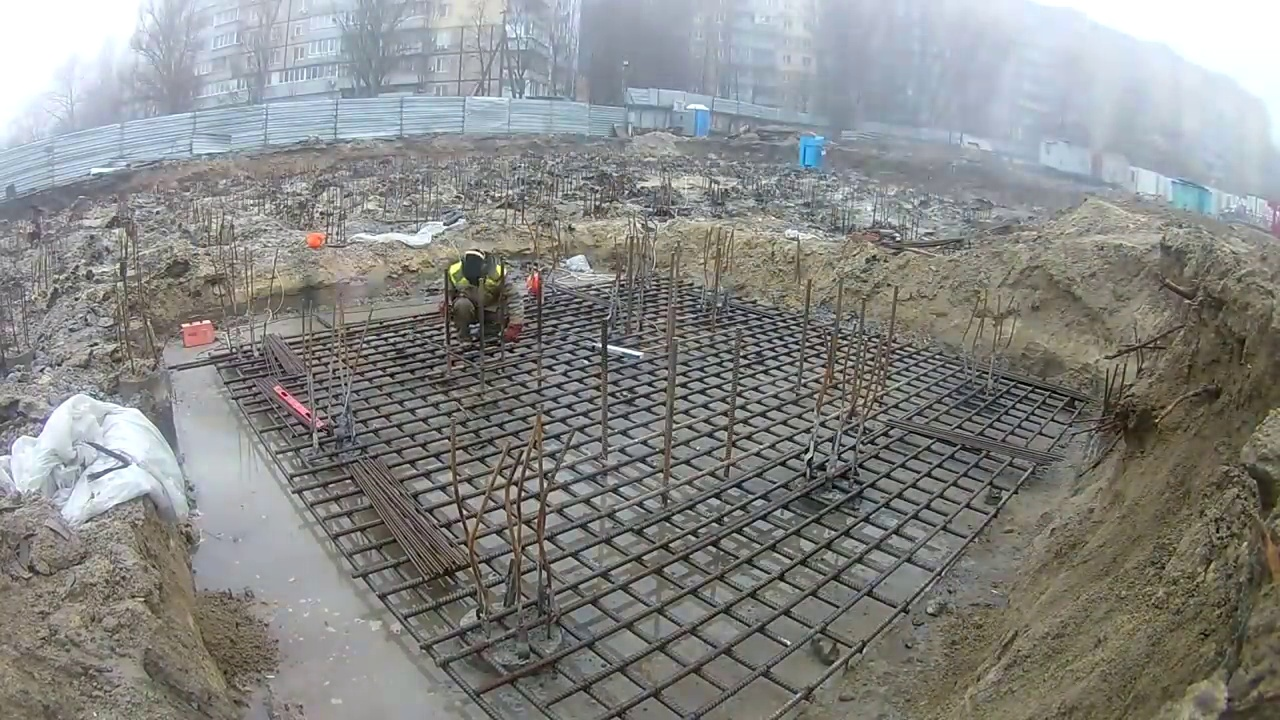helmet: (305, 231, 325, 249), (525, 273, 540, 297)
helmet-off: (460, 249, 495, 285)
person: (444, 250, 524, 345)
